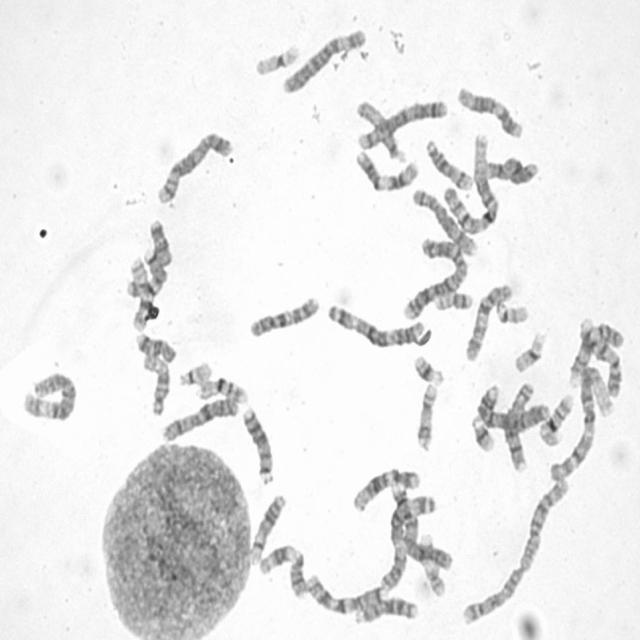A1: (546, 358, 620, 483), (442, 129, 502, 237)
A2: (460, 474, 572, 630), (400, 232, 470, 322)
A3: (378, 489, 438, 594), (324, 298, 428, 349)
B4: (387, 479, 454, 572), (472, 381, 552, 433)
B5: (153, 126, 235, 206), (354, 95, 451, 151)
C10: (462, 278, 515, 364), (245, 290, 322, 340)
C11: (352, 146, 419, 194), (257, 540, 309, 599)
C12: (454, 81, 526, 140), (350, 462, 422, 514)
C6: (280, 23, 368, 95), (20, 367, 78, 422)
C7: (304, 570, 386, 616), (130, 246, 168, 334)
C8: (410, 182, 479, 256), (501, 377, 536, 474)
C9: (574, 316, 625, 398), (566, 321, 626, 387)
D13: (239, 402, 277, 486), (350, 592, 420, 626)
D14: (247, 488, 289, 566), (423, 134, 475, 191)
D15: (353, 96, 407, 163), (140, 350, 172, 418)
E16: (536, 389, 576, 448), (193, 372, 250, 405)
E17: (417, 528, 448, 598), (413, 378, 439, 453)
E18: (134, 328, 179, 364), (150, 213, 179, 264)
F19: (252, 38, 302, 78), (511, 326, 548, 374)
F20: (122, 257, 154, 298), (432, 288, 474, 313)
G21: (410, 350, 446, 388), (468, 412, 497, 454)
G22: (175, 357, 214, 387), (493, 296, 531, 326)
X: (160, 391, 242, 443), (482, 152, 540, 186)
